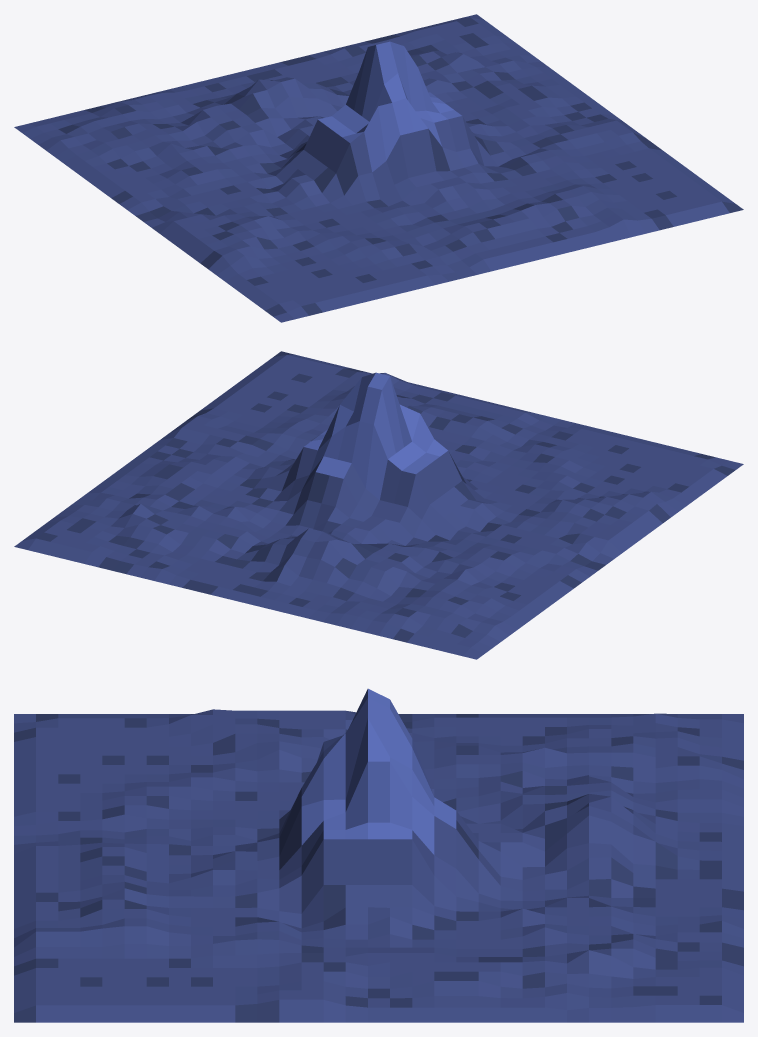
Rendered from Terrain_4_Blue.fbx.
3 renders of one model, top to bottom at view 1: azimuth 30°, elevation 25°; view 2: azimuth 150°, elevation 25°; view 3: azimuth 270°, elevation 25°, orthographic. The views are drawn at different scales.
Visible parts, largest first — view 1: Terrain_4_Blue; view 2: Terrain_4_Blue; view 3: Terrain_4_Blue.
Boxes of the visible parts, <box> form: Terrain_4_Blue: <box>14,14,743,322</box>; Terrain_4_Blue: <box>14,351,743,659</box>; Terrain_4_Blue: <box>14,688,743,1022</box>.
Size of the model in its own units: 10000 by 2647 by 10000.
